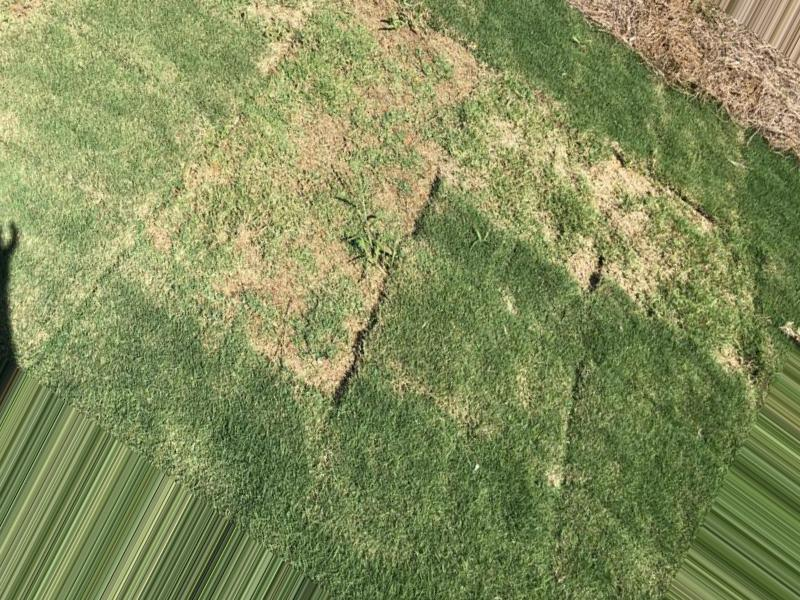patch: (256, 135, 315, 367), (380, 29, 472, 151), (560, 148, 654, 239)
